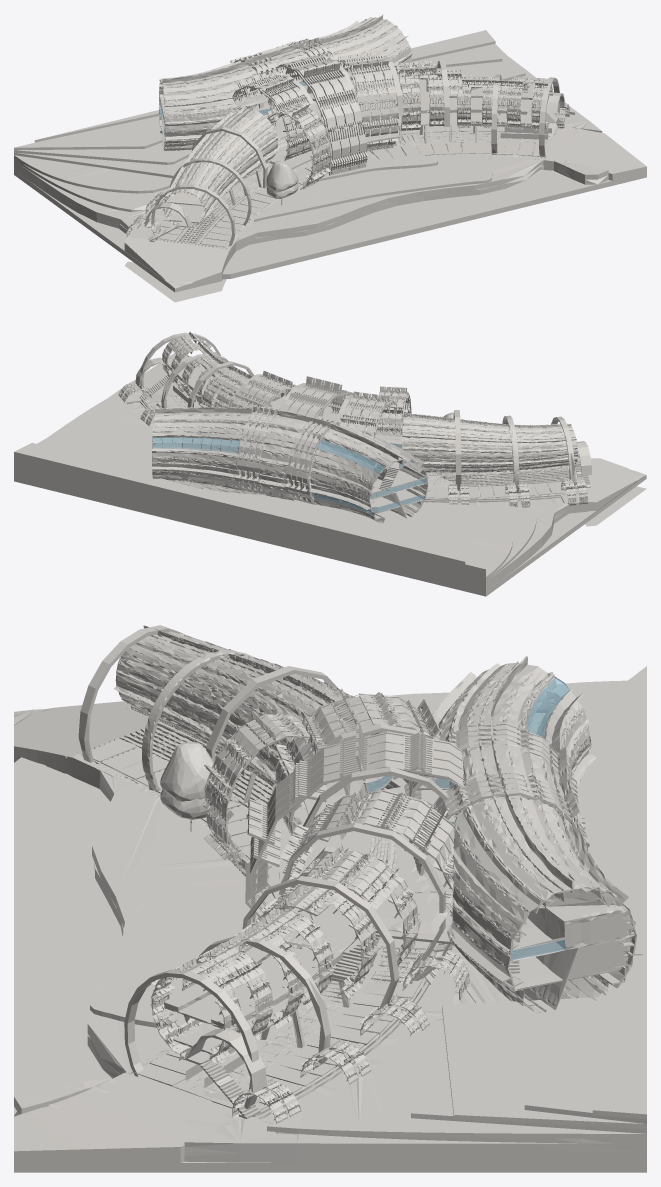
The model's file is y3s2-permeable-sports-corridor.glb.
3 views of the same model, one above another, from view 1: azimuth 30°, elevation 25°; view 2: azimuth 150°, elevation 25°; view 3: azimuth 270°, elevation 25° (orthographic). The views are drawn at different scales.
Parts seen in each view (by area): view 1: year 3 sem 2 model; view 2: year 3 sem 2 model; view 3: year 3 sem 2 model.
Boxes of the visible parts, box(x1,y1,x2,y2) form: year 3 sem 2 model: box(14, 14, 646, 302); year 3 sem 2 model: box(14, 331, 646, 596); year 3 sem 2 model: box(14, 625, 646, 1172).
Bounding box in the file's own units: 9.72 × 2.26 × 5.74.
